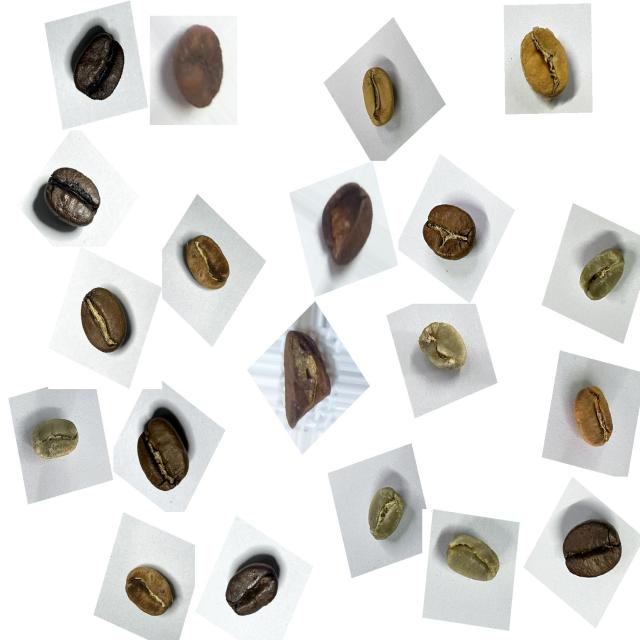bad: (268, 320, 344, 437), (160, 15, 240, 121), (310, 174, 385, 278)
dark: (60, 18, 136, 116), (552, 507, 634, 597), (33, 156, 113, 242), (216, 544, 288, 630)
green: (436, 520, 508, 599), (409, 310, 479, 387), (568, 239, 636, 318), (354, 479, 416, 555), (24, 409, 90, 476)
light: (509, 17, 585, 115), (560, 374, 625, 460), (116, 556, 184, 631), (174, 226, 240, 303), (348, 57, 407, 137)
medium: (126, 408, 200, 506), (68, 277, 138, 365), (414, 194, 487, 274)
